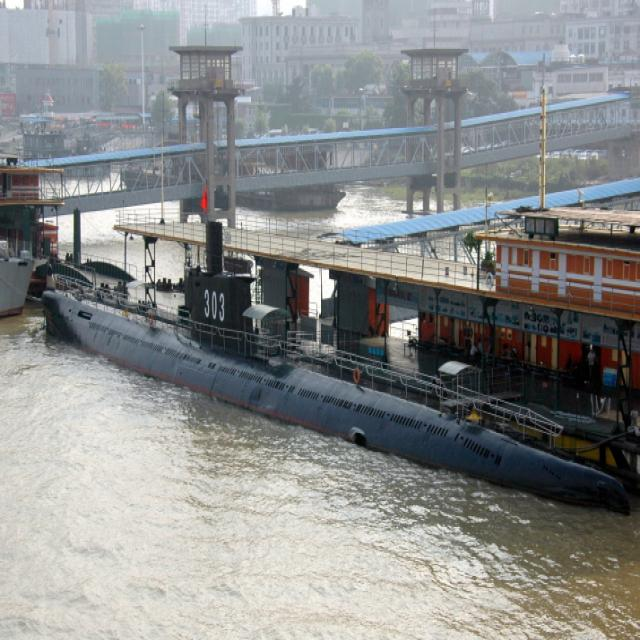submarine: (43, 222, 635, 515)
